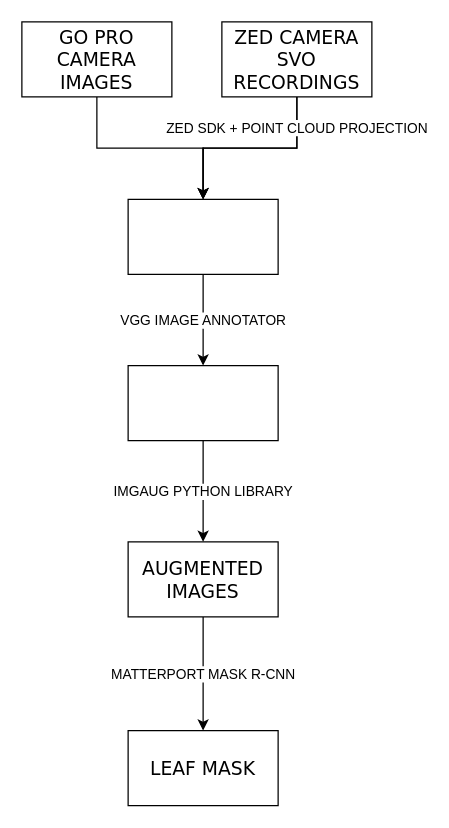
The diagram is 449 pixels wide and 828 high, and some of its shapes have lost their labels. Here are the shapes that lost their labels. From the top down, the centre of each, then its label:
At point 202,236: "2D IMAGES".
At point 202,402: "ANNOTATED IMAGES".
